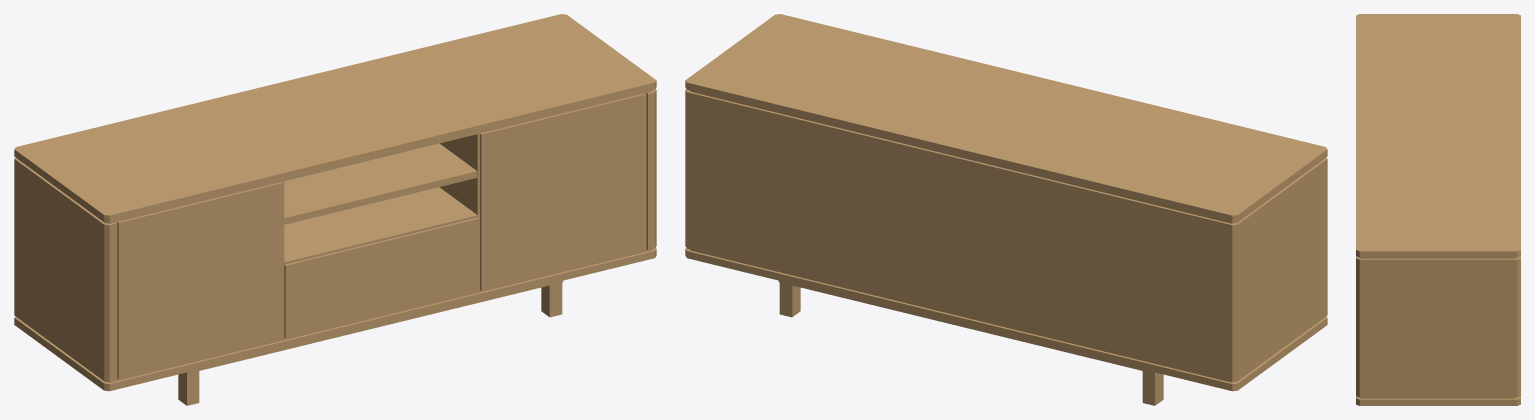
File: tvcabinet3.fbx
The picture shows the model from 3 angles, left to right: view 1: azimuth 30°, elevation 25°; view 2: azimuth 150°, elevation 25°; view 3: azimuth 270°, elevation 25°; orthographic projection. The views are drawn at different scales.
Parts seen in each view (by area): view 1: tvCabinet3; view 2: tvCabinet3; view 3: tvCabinet3.
Boxes of the visible parts, box(x1,y1,x2,y2) form: tvCabinet3: box(14, 14, 656, 405); tvCabinet3: box(685, 14, 1327, 405); tvCabinet3: box(1356, 14, 1520, 405).
Size of the model in its own units: 160 by 60 by 47.
